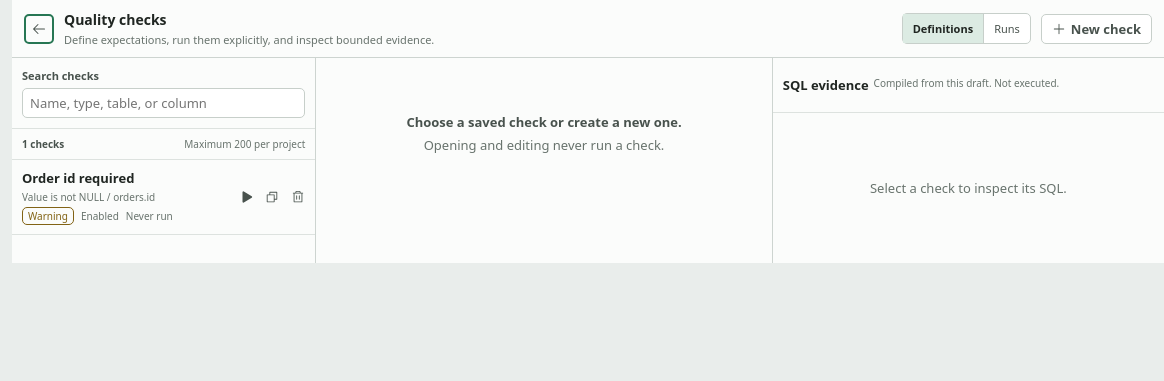
ChecksWorkspace › switches to Runs and presents a started saved check
The width and height of the screenshot is (1164, 381).
Click the button named "Run Order id required". click: x=246, y=197
box: [233, 184, 258, 210]
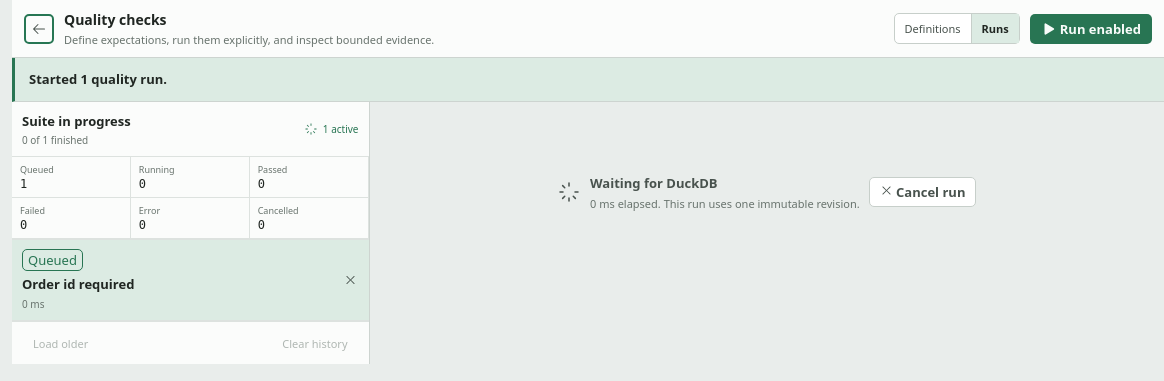
Expected: the text "Waiting for DuckDB" is shown, [590, 174, 718, 192]
